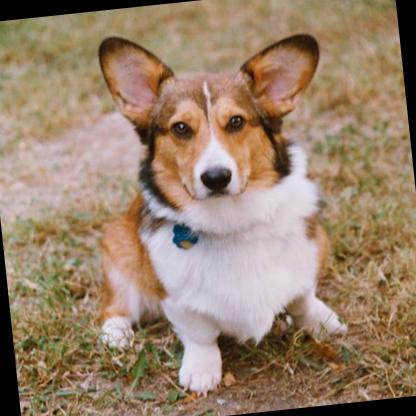Pembroke: (70, 13, 354, 404)
